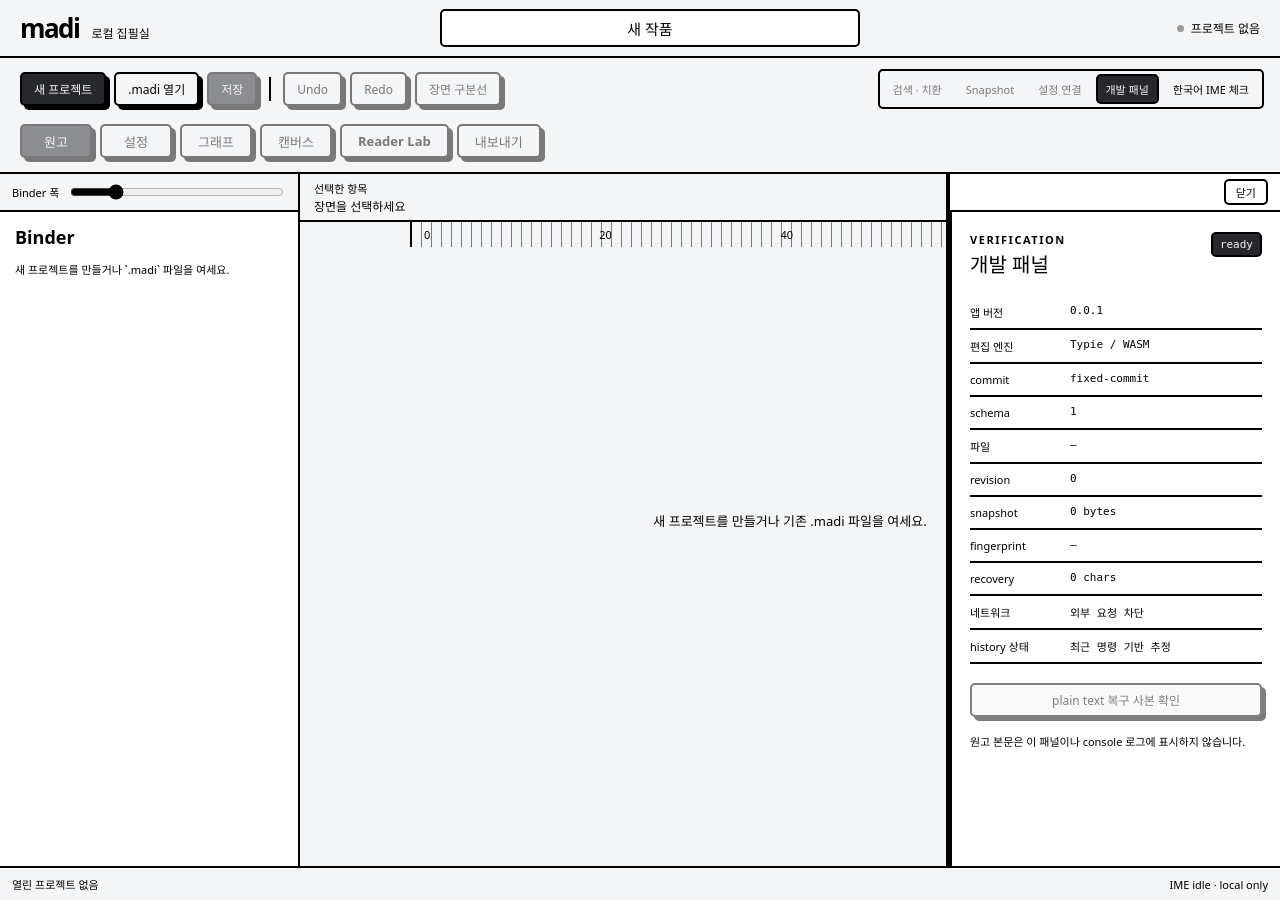
Binder scene and chapter move integration › saves before moving scene-1 to chapter-2 and preserves child scenes and the editor
Click the button ".madi 열기" at (157, 89), box 114,72 -> 199,106
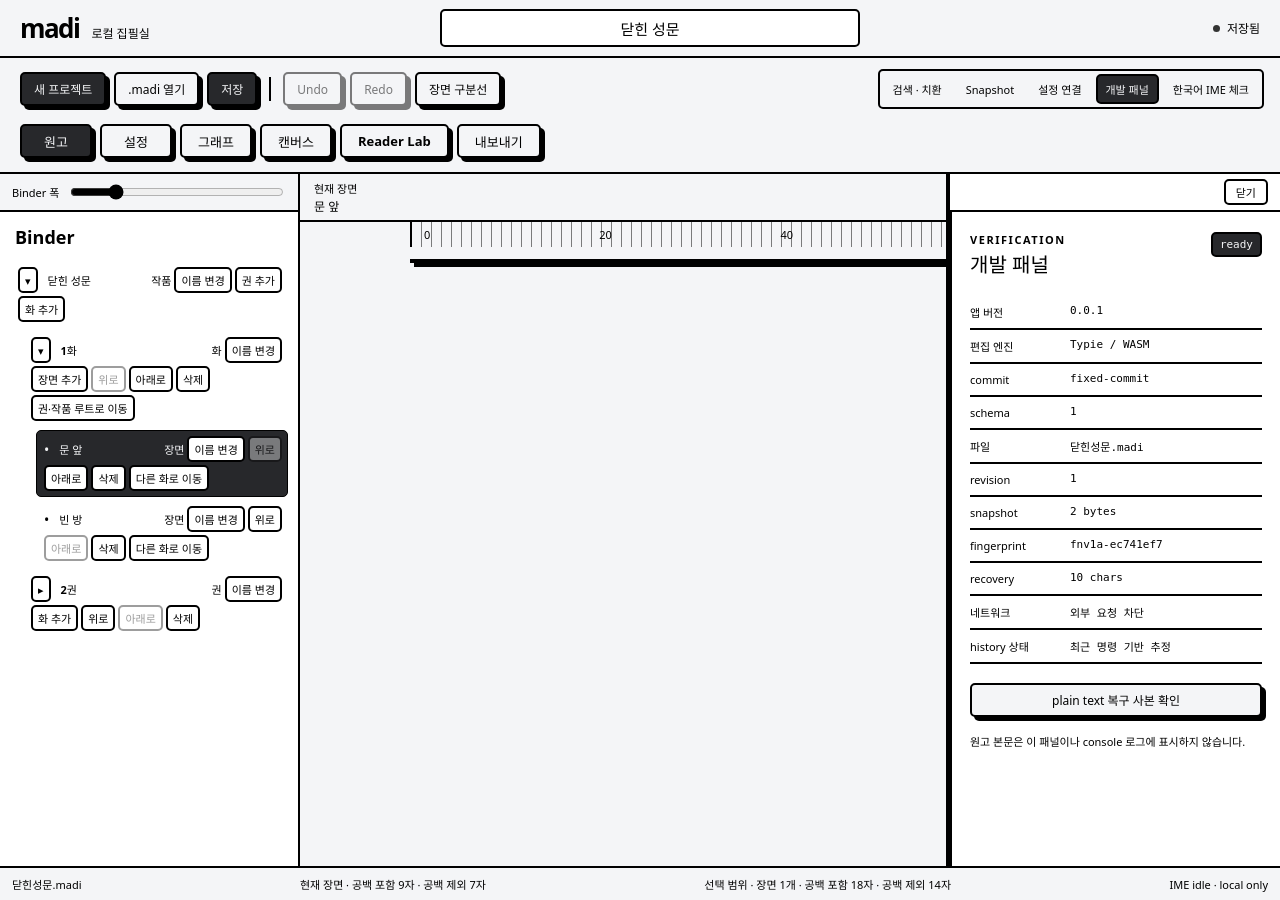
Click the 1st button "다른 화로 이동" at (169, 478), box 129,465 -> 209,491
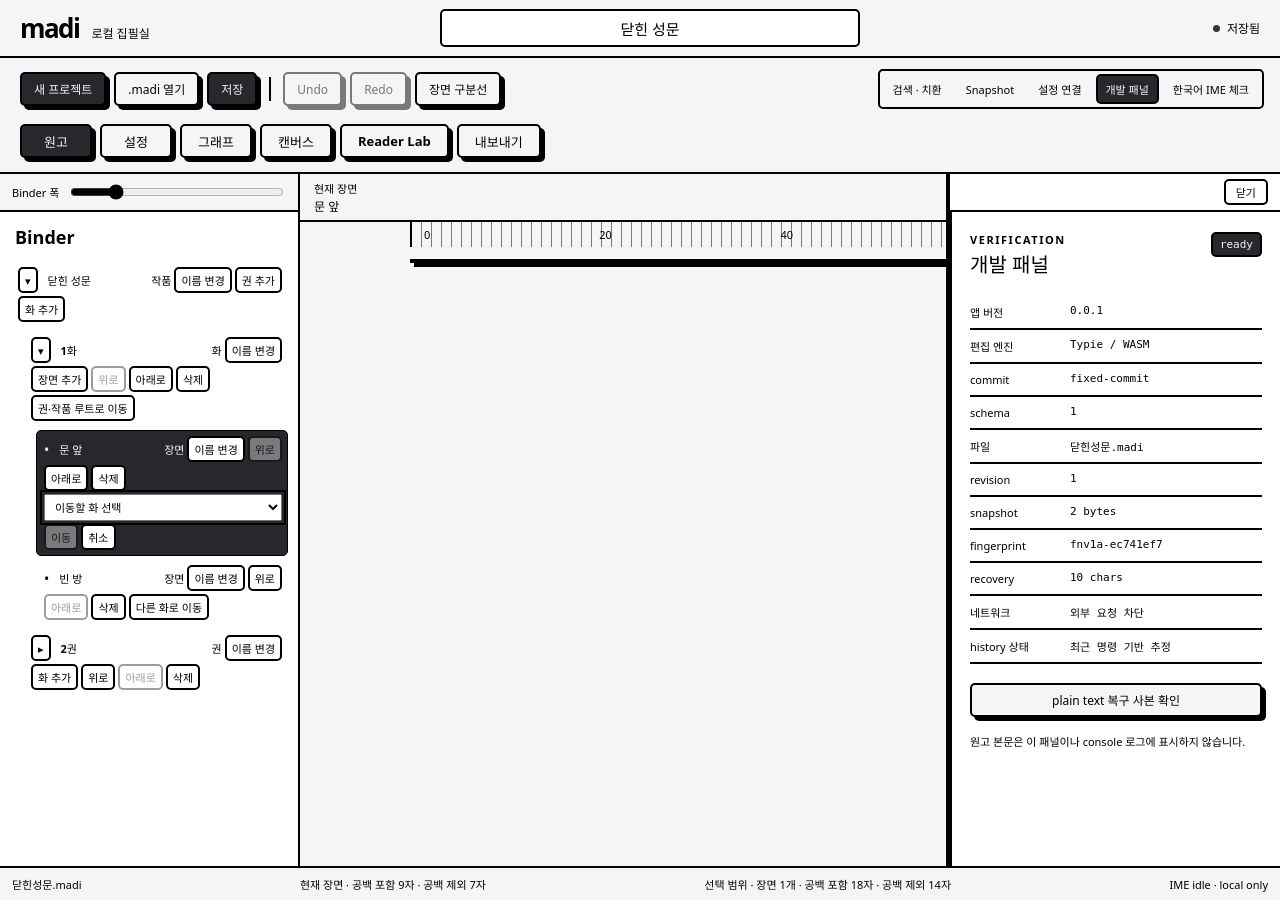
Select "2권 / 2화" in the dropdown named "문 앞 이동할 화" at (163, 508), box 44,494 -> 282,521
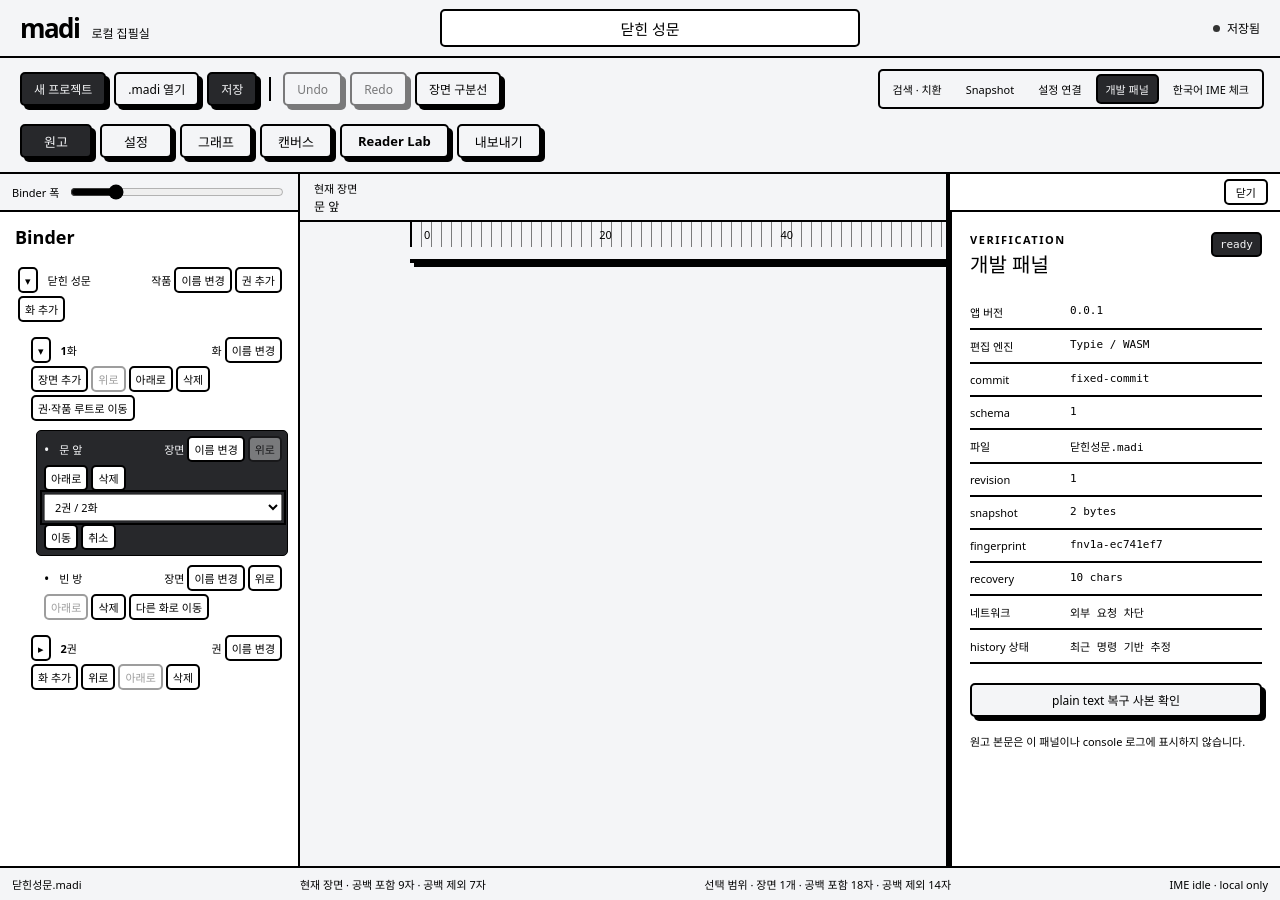
Click the button "이동" at (61, 537), box 44,524 -> 78,550
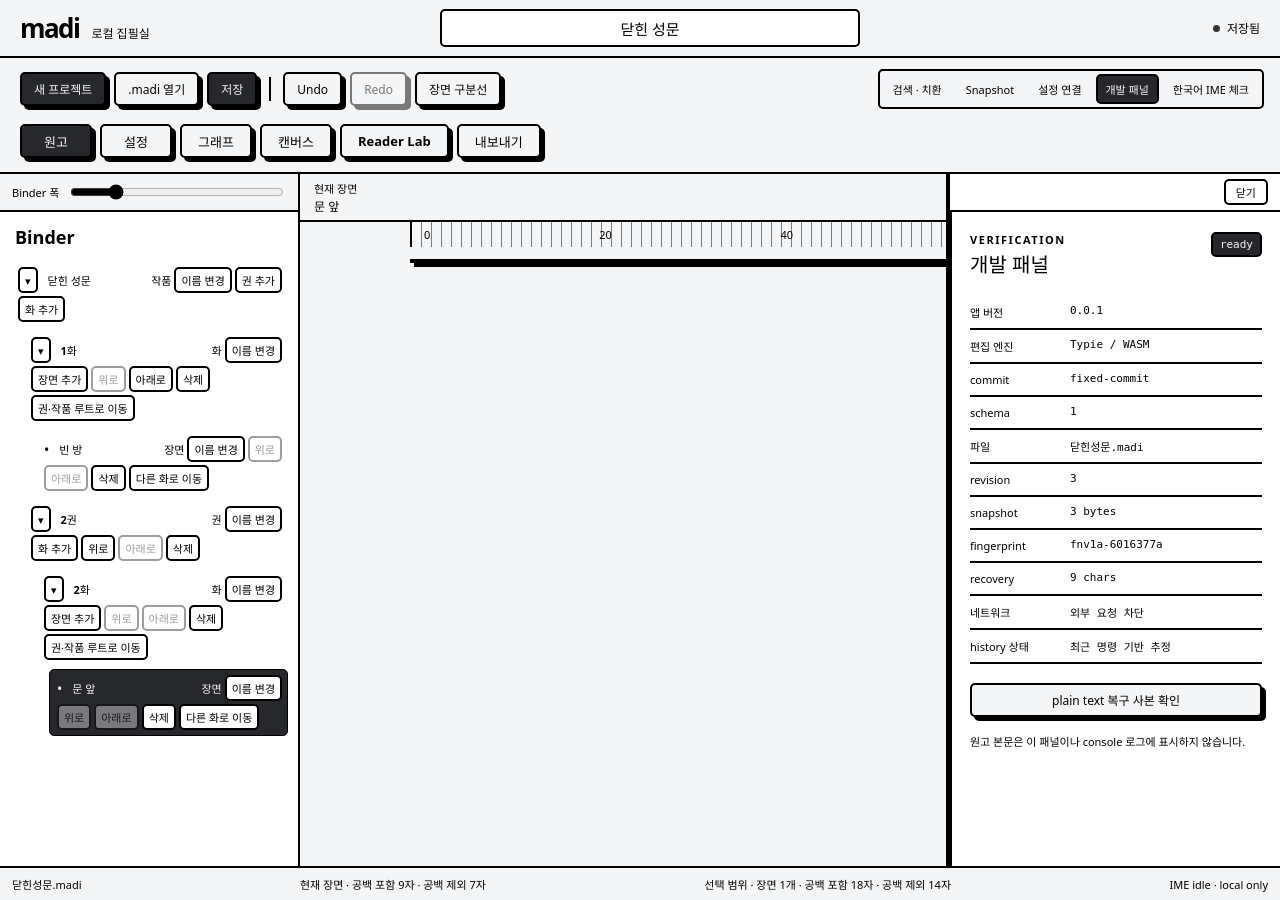
Result: the button named "2권 접기" is expanded at 31,506 -> 50,532
Result: the text "3" is shown at 1070,472 -> 1077,485
